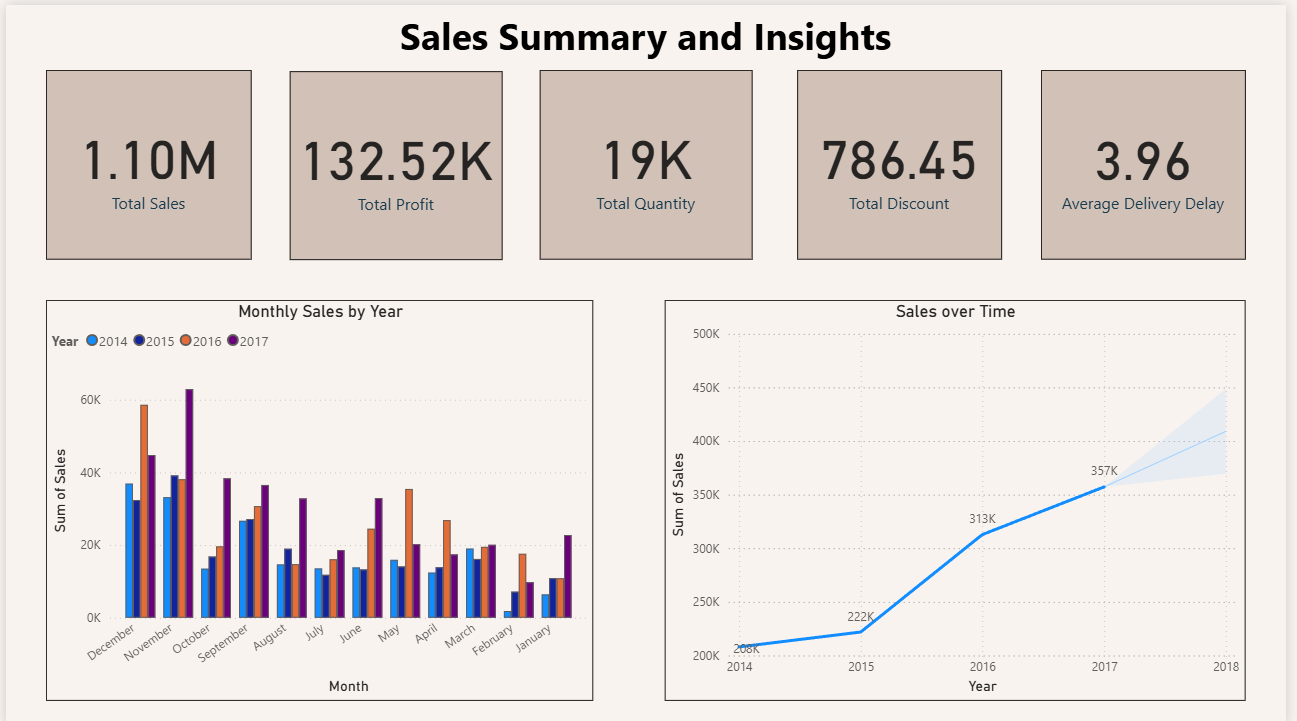

The dashboard page shown, as its layout file describes it:
{"tool":"powerbi","page":{"name":"Overview","canvas":[1280,720],"ordinal":0},"visuals":[{"type":"lineChart","title":"Sales over Time","fields":{"Category":["dim_date.Date.Variation.Date Hierarchy.Year","dim_date.Date.Variation.Date Hierarchy.Quarter","dim_date.Date.Variation.Date Hierarchy.Month","dim_date.Date.Variation.Date Hierarchy.Day"],"Y":["Sum(fact_sales.Sales)"]},"box":[658.7,295,580.4,400.7],"z":0},{"type":"clusteredColumnChart","title":"Monthly Sales by Year","fields":{"Category":["dim_date.Date.Variation.Date Hierarchy.Month"],"Series":["dim_date.Year"],"Y":["Sum(fact_sales.Sales)"]},"box":[39.8,295,547.5,400.7],"z":1000},{"type":"card","fields":{"Values":["fact_sales.Total Sales"]},"box":[39.8,64.5,205.8,189.4],"z":1001},{"type":"card","fields":{"Values":["fact_sales.Total Profit"]},"box":[284.4,66,212.9,188.7],"z":1002},{"type":"card","fields":{"Values":["fact_sales.Total Discount"]},"box":[791.8,64.5,204.5,189.4],"z":1003},{"type":"card","fields":{"Values":["fact_sales.Average Delivery Delay"]},"box":[1034.4,64.6,204.7,189.6],"z":1004},{"type":"card","fields":{"Values":["fact_sales.Total Quantity"]},"box":[533.8,64.5,212.7,189.4],"z":1005},{"type":"textbox","box":[40.4,0,1199.4,59.3],"z":1006}]}

Visuals, with their boxes in screenshot pixels (x1, y1, x2, y2), scaled from the page's 1280x720 canvas onto the 1297x721 screenshot:
"Sales over Time" lineChart: [667, 295, 1256, 697]
"Monthly Sales by Year" clusteredColumnChart: [40, 295, 595, 697]
card - fact_sales.Total Sales: [40, 65, 249, 254]
card - fact_sales.Total Profit: [288, 66, 504, 255]
card - fact_sales.Total Discount: [802, 65, 1010, 254]
card - fact_sales.Average Delivery Delay: [1048, 65, 1256, 255]
card - fact_sales.Total Quantity: [541, 65, 756, 254]
textbox: [41, 0, 1256, 59]
